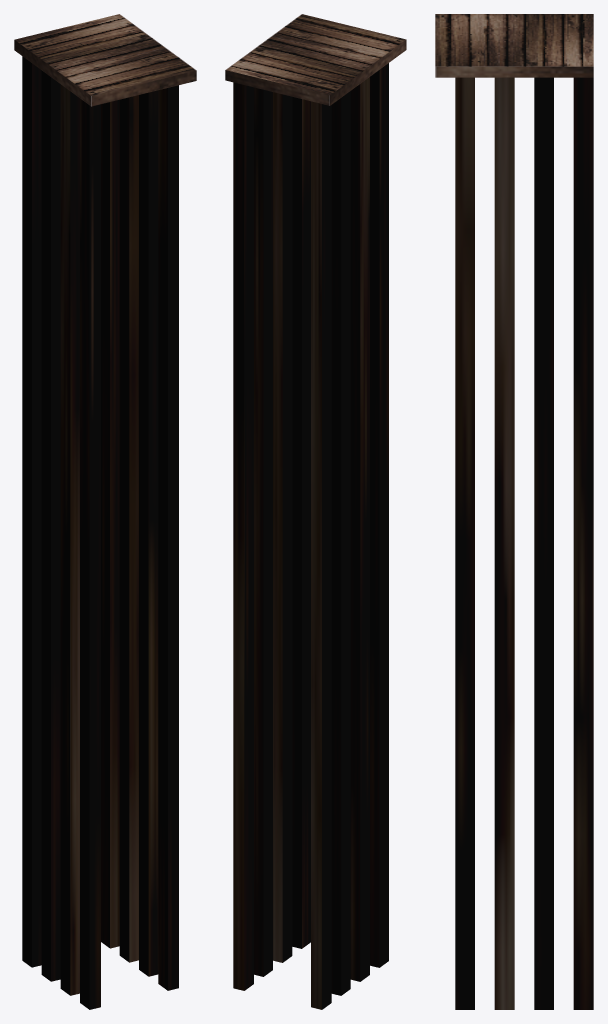
Rendered from PlatformFBX.fbx.
3 renders of one model, left to right at view 1: azimuth 30°, elevation 25°; view 2: azimuth 150°, elevation 25°; view 3: azimuth 270°, elevation 25°, orthographic. The views are drawn at different scales.
Parts seen in each view (by area): view 1: StraightPiece; view 2: StraightPiece; view 3: StraightPiece.
Part boxes in pixels (x1,y1,x2,y2): StraightPiece: (14,14,196,1009); StraightPiece: (225,14,406,1009); StraightPiece: (435,14,593,1009).
Bounding box in the file's own units: 472 × 3945 × 597.
